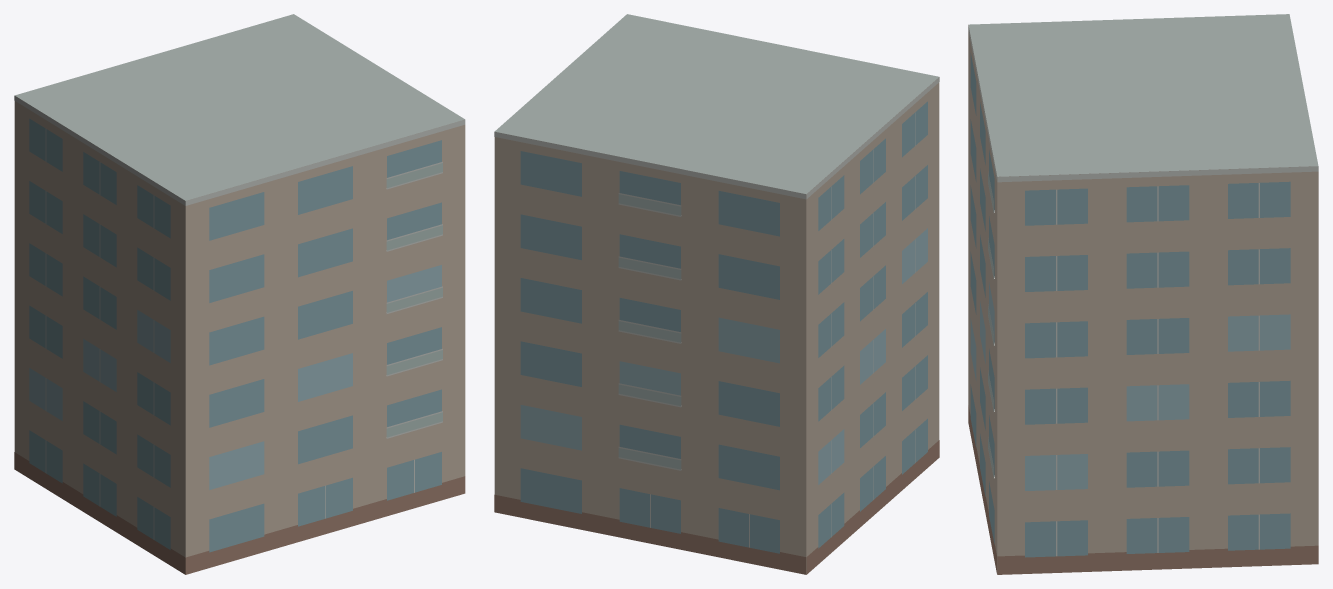
The model's file is survey-upis-32743024.glb.
3 renders of one model, left to right at view 1: azimuth 30°, elevation 25°; view 2: azimuth 150°, elevation 25°; view 3: azimuth 270°, elevation 25°, orthographic. The views are drawn at different scales.
Parts seen in each view (by area): view 1: survey-upis-32743024.tmp; view 2: survey-upis-32743024.tmp; view 3: survey-upis-32743024.tmp.
Part boxes in pixels (left/top/right/bottom): survey-upis-32743024.tmp: left=14, top=14, right=465, bottom=574; survey-upis-32743024.tmp: left=494, top=14, right=939, bottom=574; survey-upis-32743024.tmp: left=968, top=14, right=1318, bottom=574.
Bounding box in the file's own units: 15.63 × 17.8 × 14.2.
